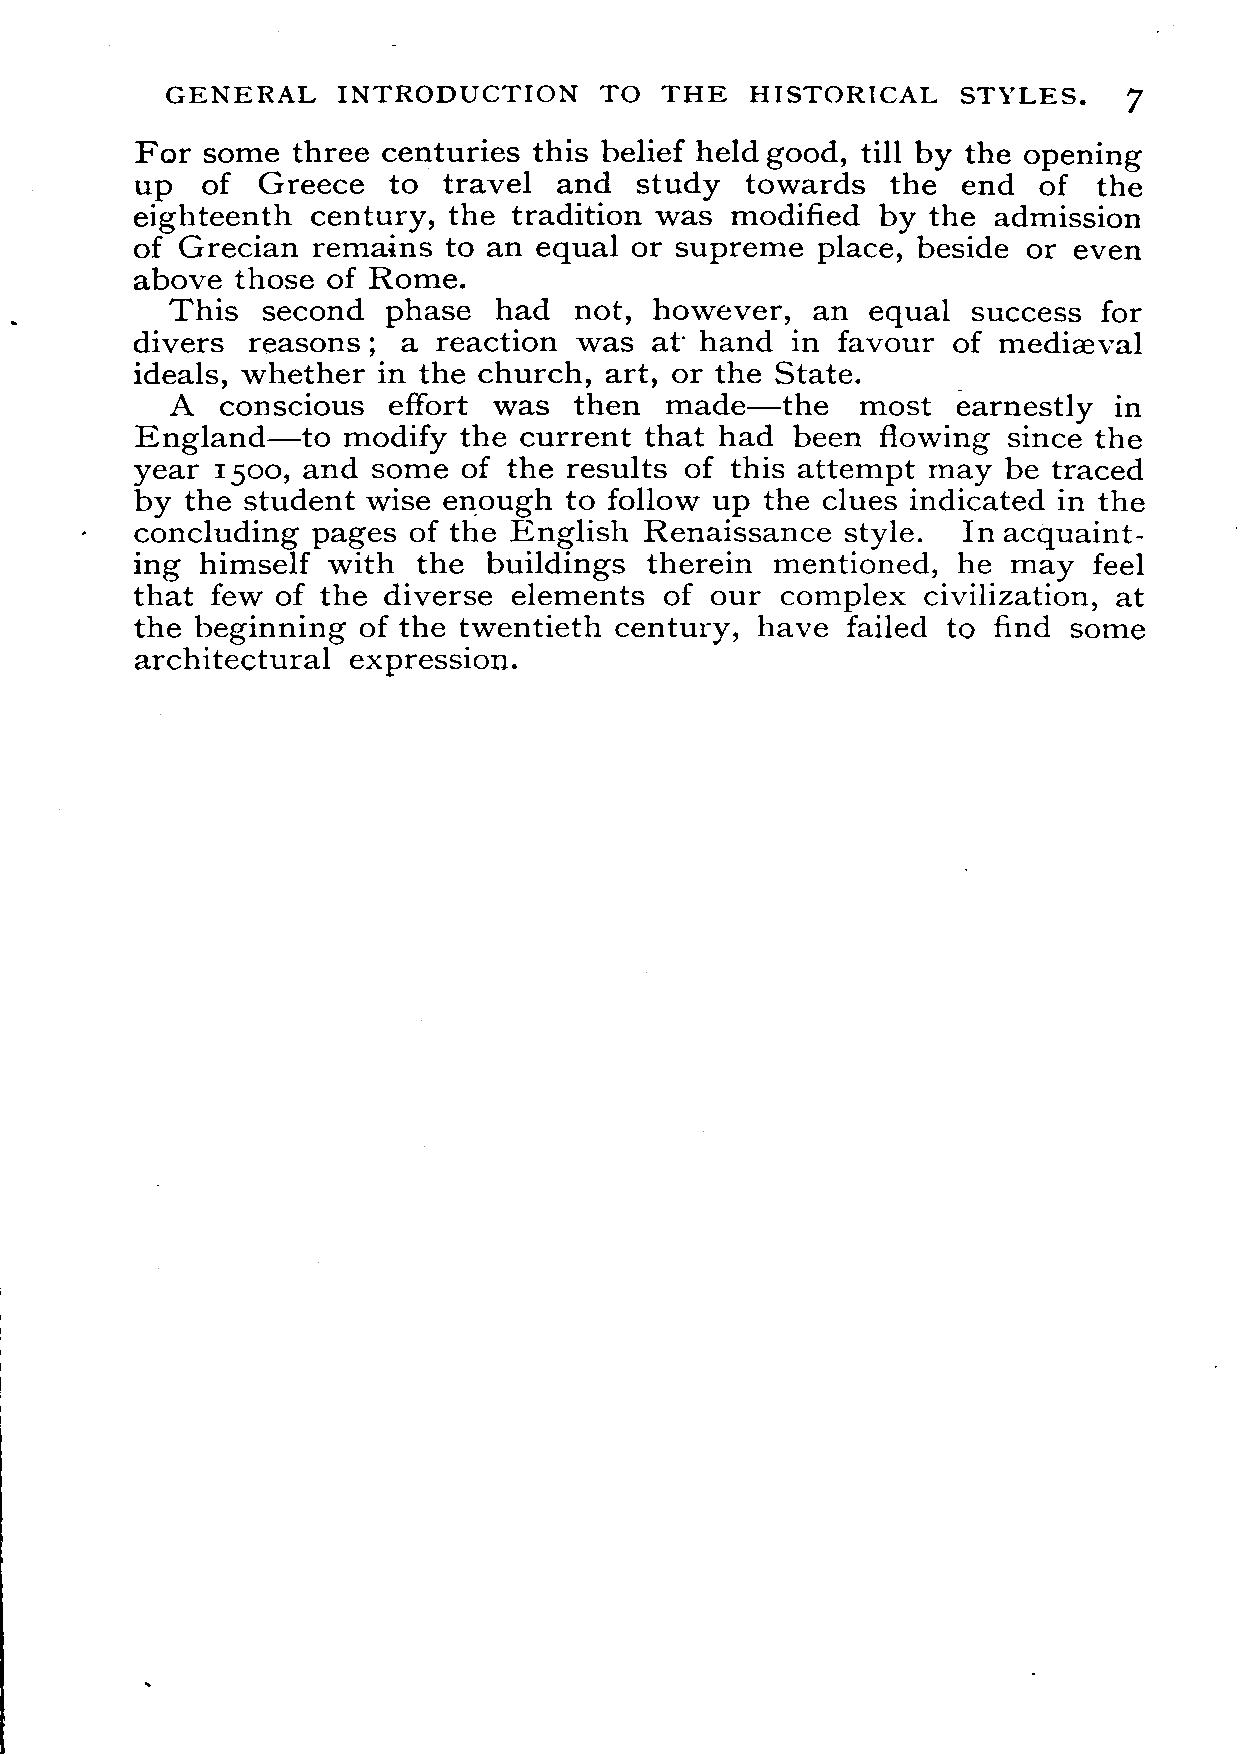content: (127, 132, 1147, 676)
content_chapter: (162, 79, 1084, 107)
content_pagenumber: (1117, 83, 1146, 113)
